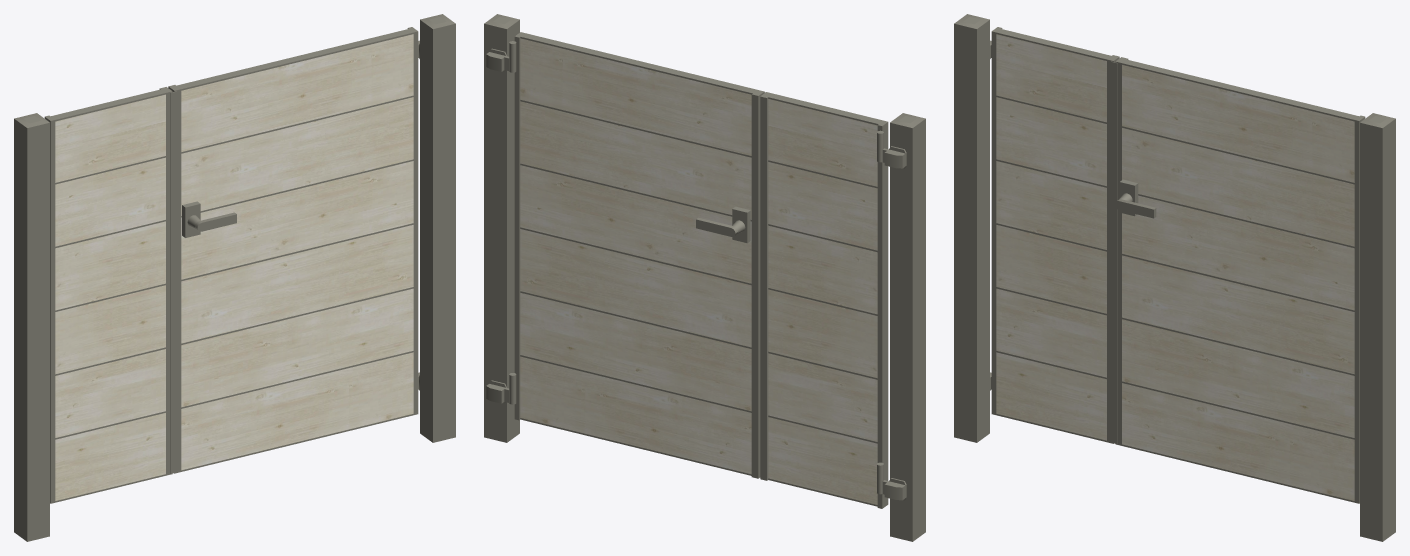
Rendered from 400-800-1200_whitepine.fbx.
3 views of the same model, side by side, from view 1: azimuth 30°, elevation 25°; view 2: azimuth 150°, elevation 25°; view 3: azimuth 330°, elevation 25° (orthographic).
Parts seen in each view (by area): view 1: 400-800-1200whitepine; view 2: 400-800-1200whitepine; view 3: 400-800-1200whitepine.
Boxes of the visible parts, left/top/right/bottom form: 400-800-1200whitepine: left=14, top=14, right=455, bottom=541; 400-800-1200whitepine: left=484, top=14, right=925, bottom=541; 400-800-1200whitepine: left=954, top=14, right=1395, bottom=541.
Size of the model in its own units: 141 by 130 by 17.1.
2 materials, 2 textured.
